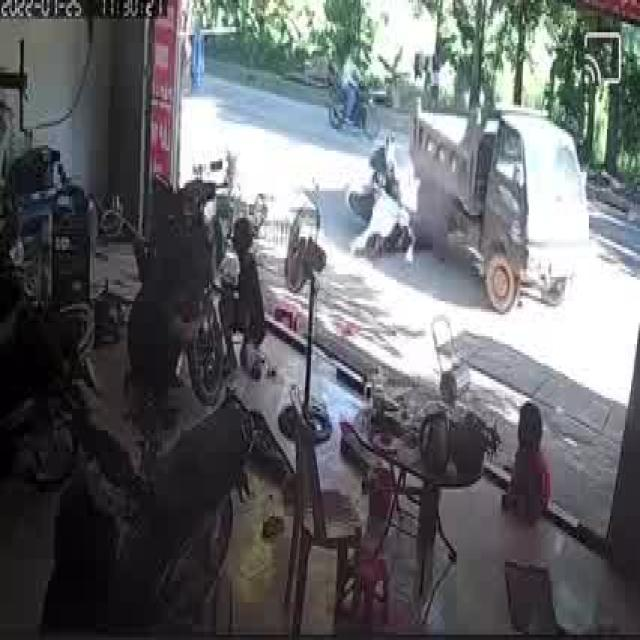multiple_accident: (343, 91, 594, 320)
